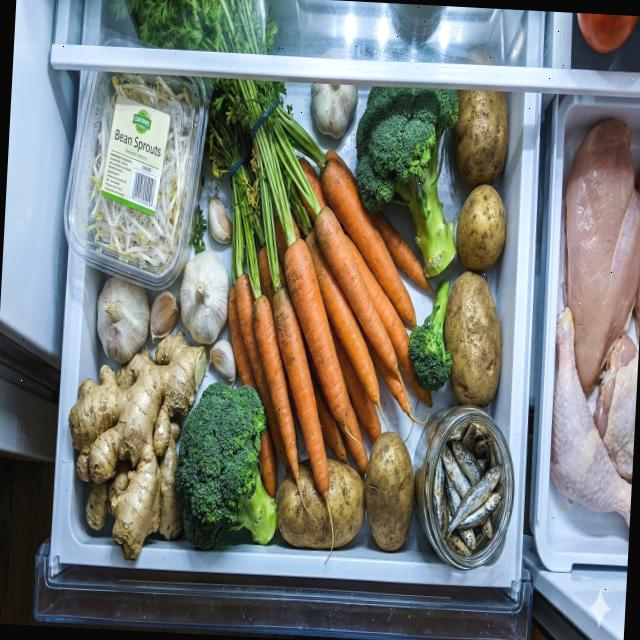anchovies: (430, 419, 507, 558)
bean_sprouts: (80, 74, 200, 278)
brocolli: (350, 84, 466, 280), (170, 380, 284, 554), (406, 276, 456, 394)
carrot: (218, 145, 446, 507)
chicken: (546, 114, 640, 529)
garlic: (94, 244, 242, 382), (308, 84, 358, 140), (207, 195, 234, 245)
ginger: (62, 324, 208, 564)
potato: (440, 268, 506, 410), (276, 454, 368, 553), (362, 430, 418, 549), (450, 89, 510, 191), (454, 182, 508, 274)
